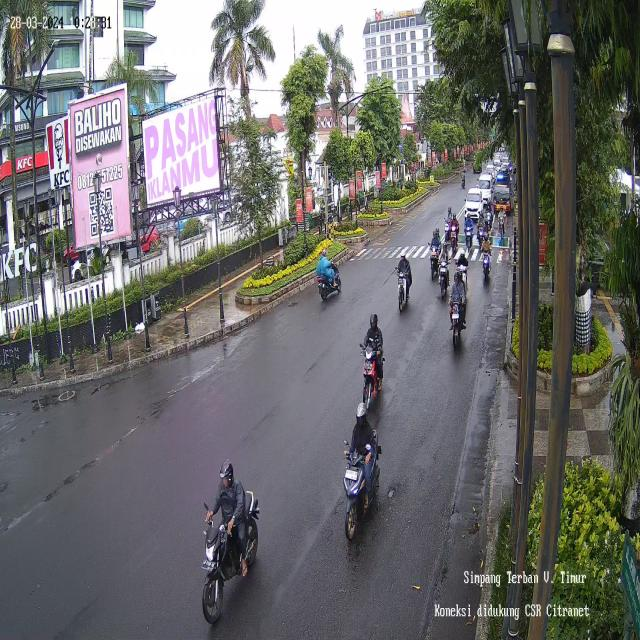car: (492, 174, 512, 214), (464, 186, 484, 222), (478, 173, 492, 208)
motorcycle: (199, 456, 263, 628), (344, 404, 382, 540), (359, 310, 388, 407), (446, 272, 465, 354), (317, 246, 342, 304), (396, 247, 413, 313), (453, 248, 468, 298), (428, 228, 441, 278), (439, 239, 449, 300), (481, 232, 492, 282), (443, 201, 454, 245), (462, 214, 473, 255), (450, 210, 459, 254), (497, 207, 508, 240)
